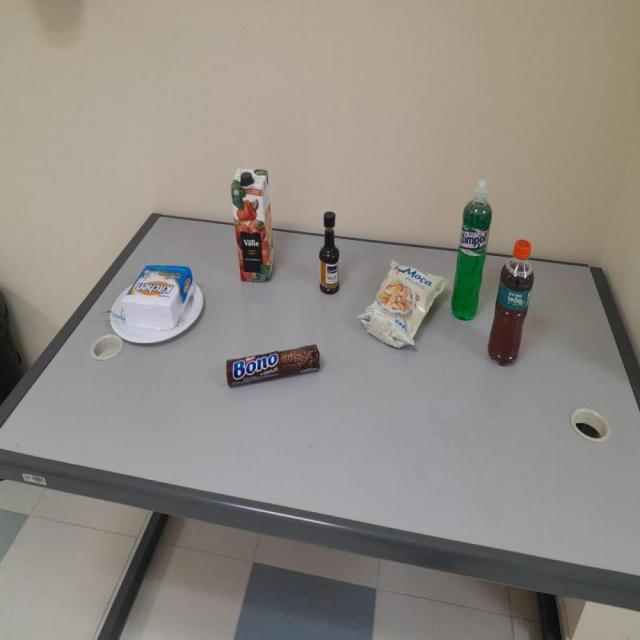Cleaner: (452, 181, 493, 319)
Cookies: (225, 346, 325, 394)
CornFlakes: (359, 264, 449, 349)
EnglishSauce: (319, 211, 342, 296)
IceTea: (490, 240, 535, 368)
